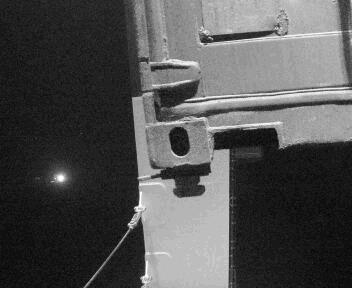twist_lock_1: (165, 157, 224, 202)
